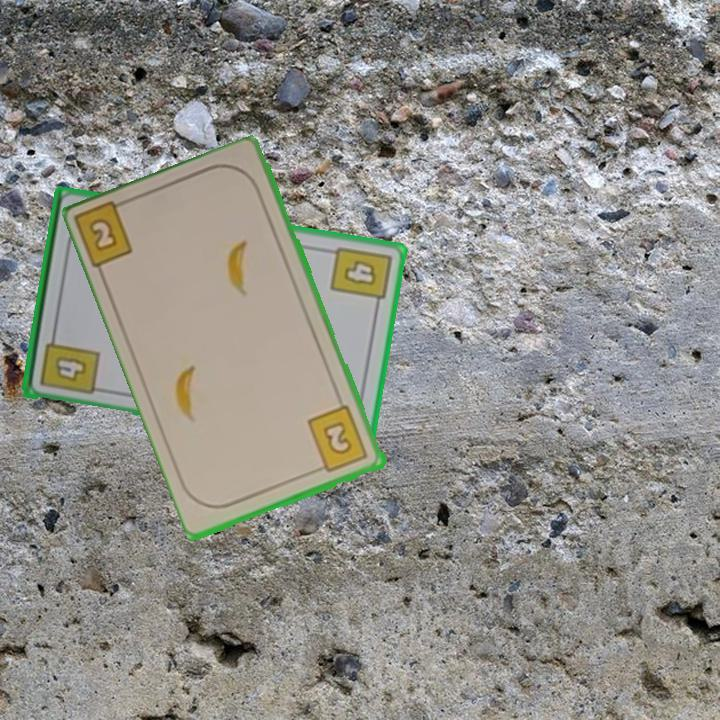2b: (304, 402, 371, 476), (74, 195, 136, 273)
4b: (327, 242, 394, 313), (36, 327, 102, 397)
